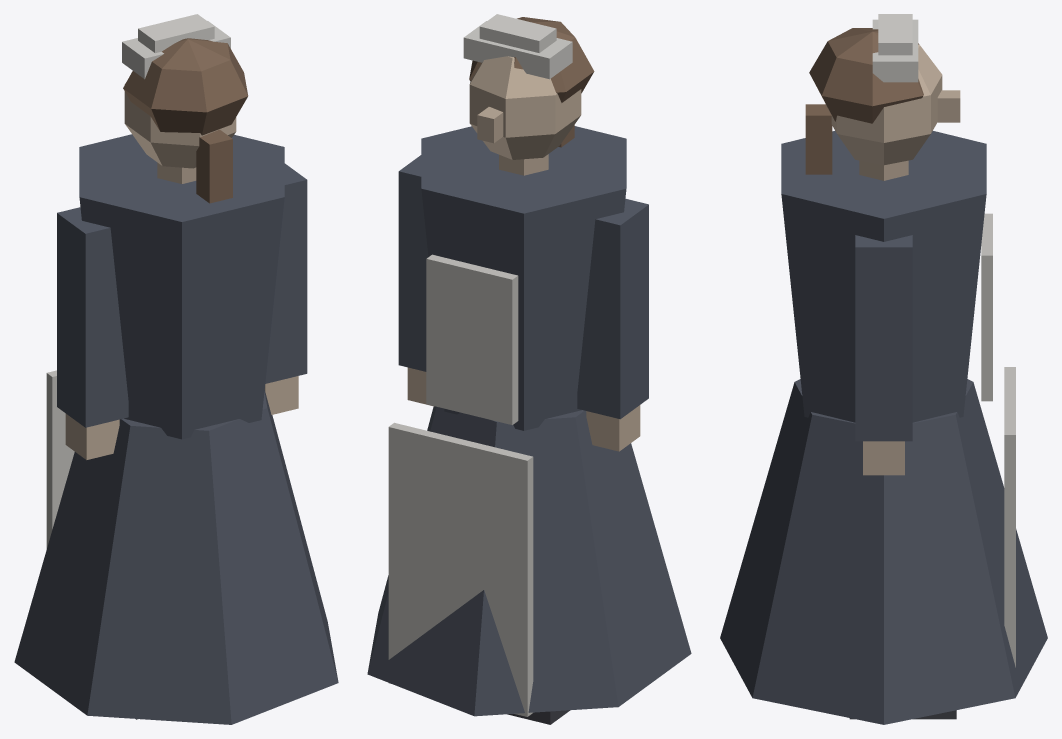
Rendered from personaje_lucia.glb.
3 views of the same model, side by side, from view 1: azimuth 30°, elevation 25°; view 2: azimuth 150°, elevation 25°; view 3: azimuth 270°, elevation 25° (orthographic).
Parts seen in each view (by area): view 1: Lucia_Torso, Lucia_Cabeza, Lucia_BrazoIzq, Lucia_BrazoDer; view 2: Lucia_Torso, Lucia_Cabeza, Lucia_BrazoIzq, Lucia_BrazoDer; view 3: Lucia_Torso, Lucia_Cabeza, Lucia_BrazoDer.
Boxes of the visible parts, bbox=[...] form: Lucia_Torso: bbox=[14, 134, 338, 724]; Lucia_Cabeza: bbox=[122, 14, 248, 203]; Lucia_BrazoIzq: bbox=[57, 207, 128, 459]; Lucia_BrazoDer: bbox=[264, 163, 307, 414]; Lucia_Torso: bbox=[367, 126, 691, 716]; Lucia_Cabeza: bbox=[463, 14, 594, 175]; Lucia_BrazoIzq: bbox=[577, 198, 648, 451]; Lucia_BrazoDer: bbox=[398, 155, 434, 406]; Lucia_Torso: bbox=[720, 131, 1047, 724]; Lucia_Cabeza: bbox=[805, 14, 960, 180]; Lucia_BrazoDer: bbox=[855, 235, 912, 475].
Size of the model in its own units: 0.8364 by 1.91 by 0.8579.
